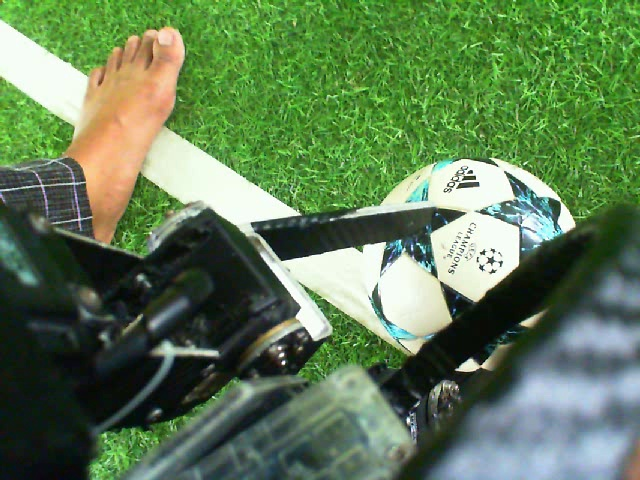ball: (363, 154, 578, 303)
